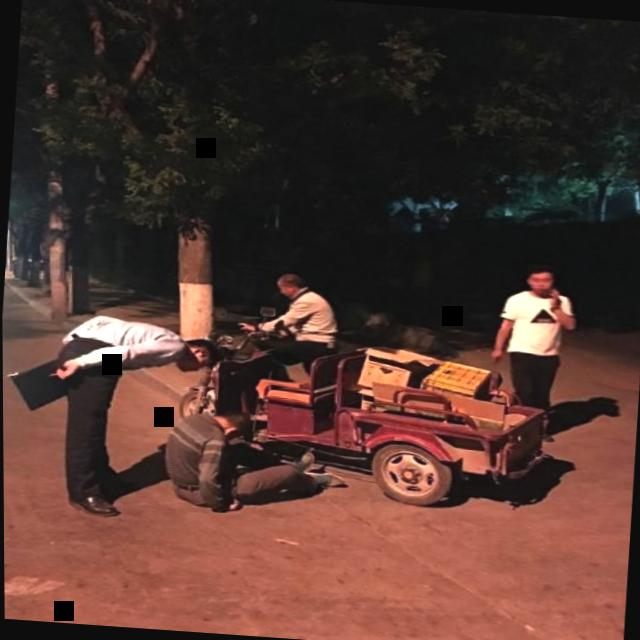Fall-Detected: (150, 395, 354, 520)
